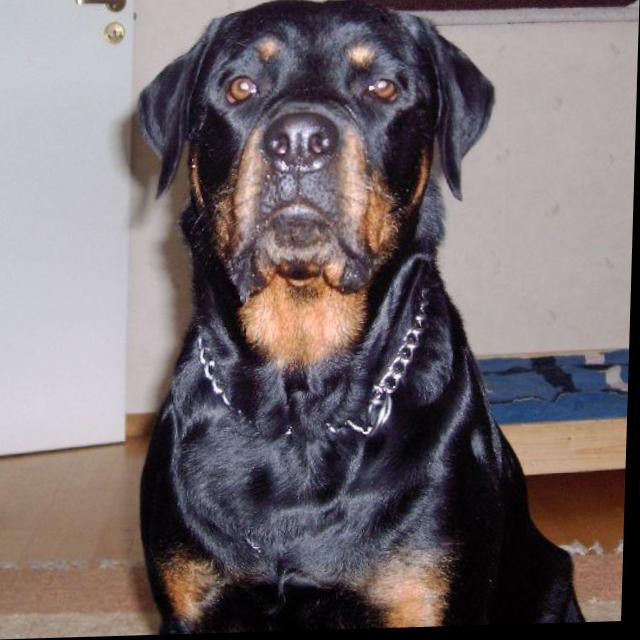rottweiler: (129, 1, 612, 637)
